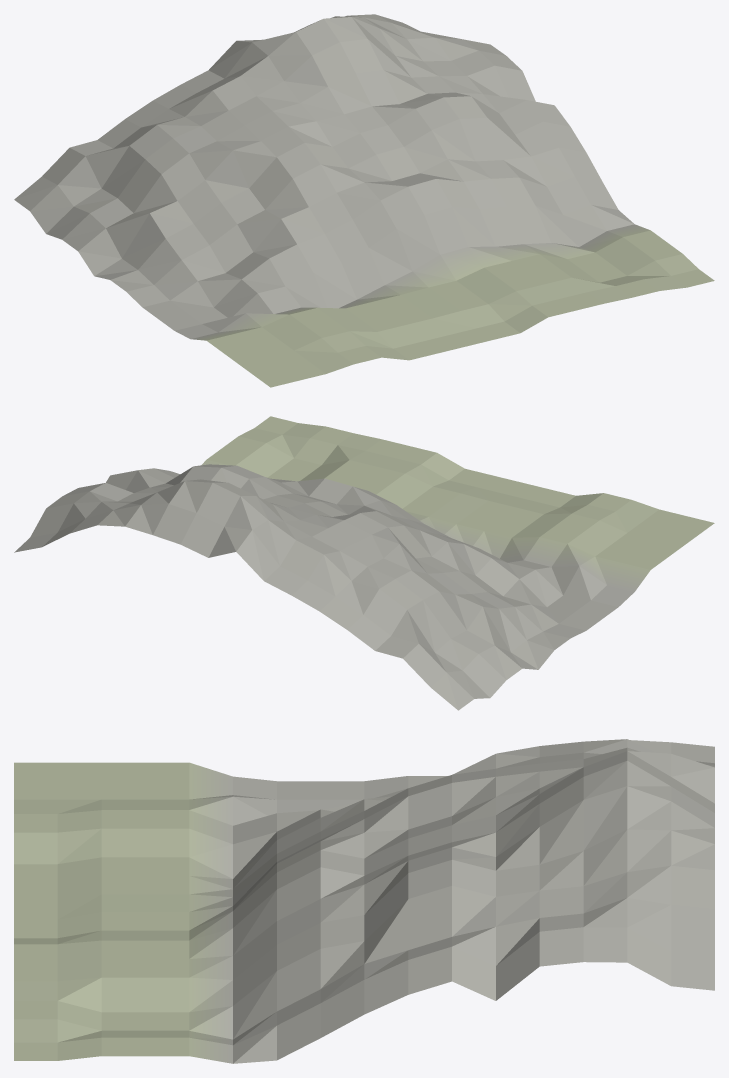
3 views of the same model, one above another, from view 1: azimuth 30°, elevation 25°; view 2: azimuth 150°, elevation 25°; view 3: azimuth 270°, elevation 25° (orthographic). The views are drawn at different scales.
Size of the model in its own units: 32 by 10.64 by 32.
